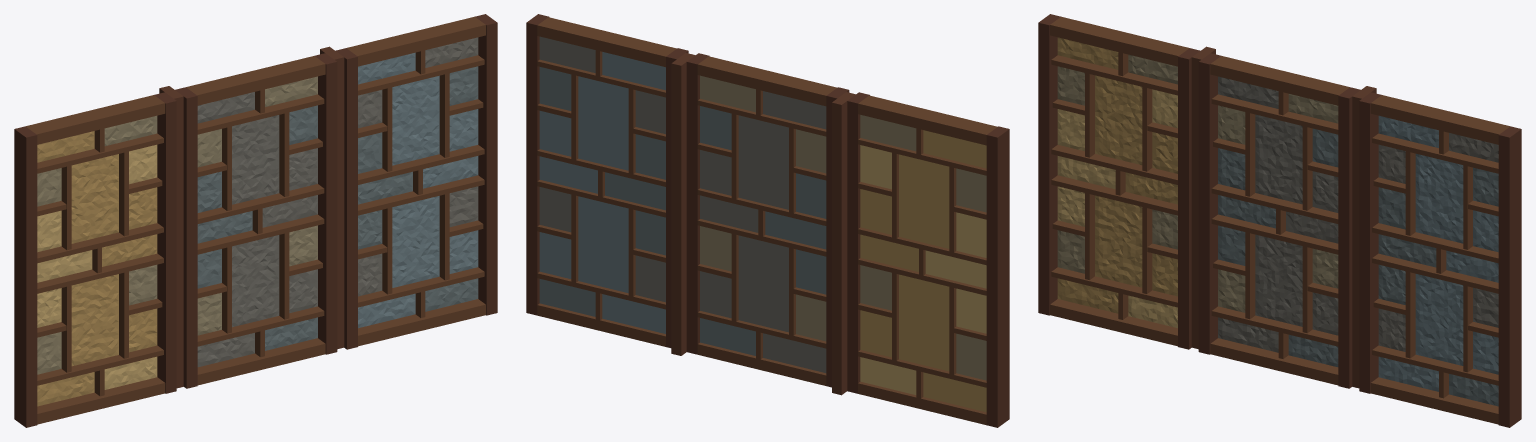
The model's file is pudong-qingxi-teahouse-courtyard-window-screens-web.glb.
3 views of the same model, side by side, from view 1: azimuth 30°, elevation 25°; view 2: azimuth 150°, elevation 25°; view 3: azimuth 330°, elevation 25° (orthographic).
Visible parts, largest first — view 1: 清溪茶馆内院三联木格压花玻璃窗; view 2: 清溪茶馆内院三联木格压花玻璃窗; view 3: 清溪茶馆内院三联木格压花玻璃窗.
Boxes of the visible parts, left/top/right/bottom form: 清溪茶馆内院三联木格压花玻璃窗: left=14, top=14, right=497, bottom=427; 清溪茶馆内院三联木格压花玻璃窗: left=526, top=14, right=1009, bottom=427; 清溪茶馆内院三联木格压花玻璃窗: left=1038, top=14, right=1521, bottom=427.
Bounding box in the file's own units: 1.63 × 0.96 × 0.104.
